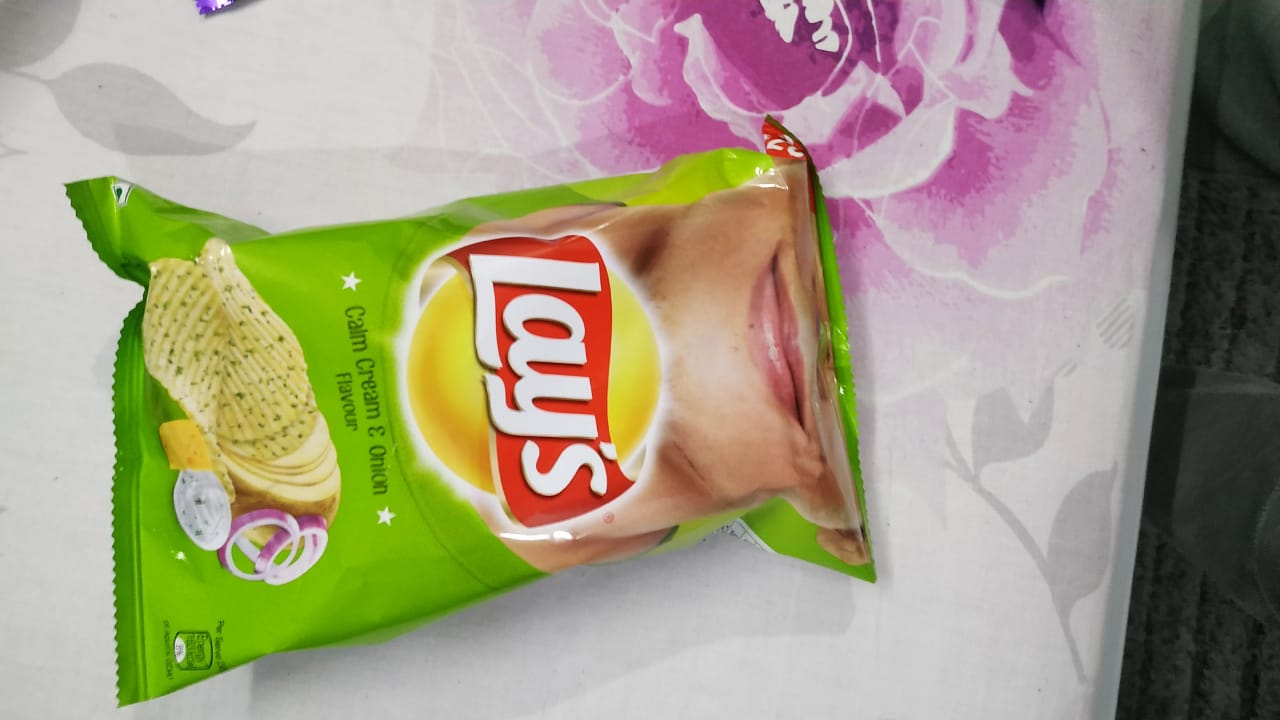lays chips: (52, 121, 909, 703)
